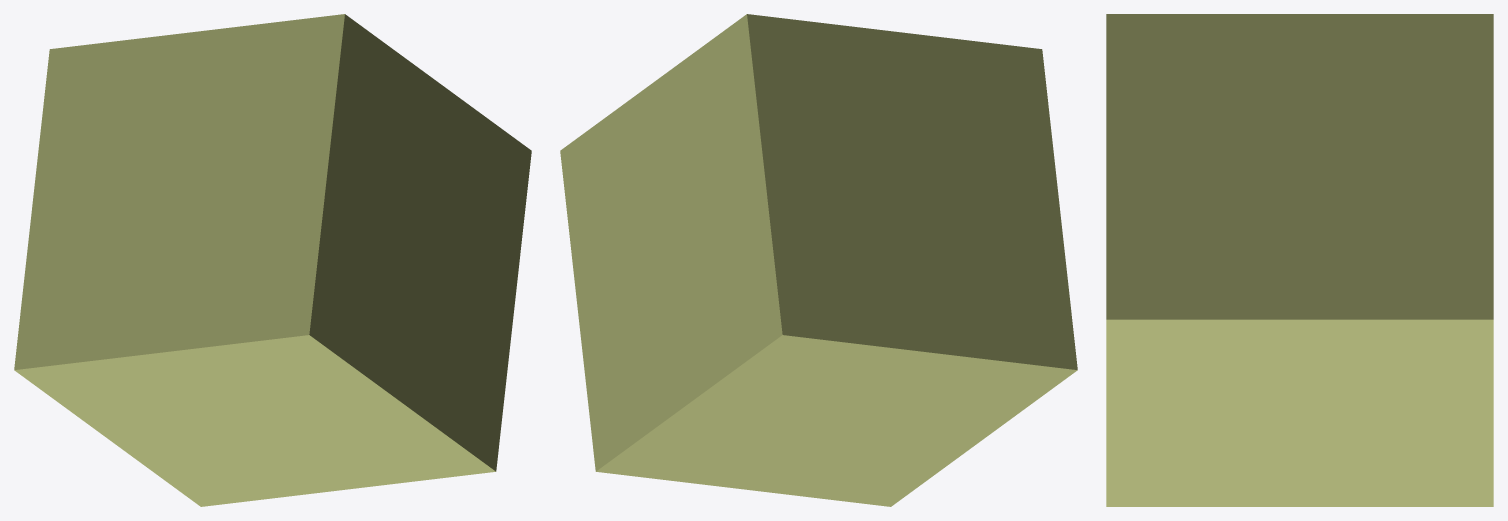
3 views of the same model, side by side, from view 1: azimuth 30°, elevation 25°; view 2: azimuth 150°, elevation 25°; view 3: azimuth 270°, elevation 25° (orthographic). The views are drawn at different scales.
Parts seen in each view (by area): view 1: 0_2_3_3_3_0_2_0_0_1_0; view 2: 0_2_3_3_3_0_2_0_0_1_0; view 3: 0_2_3_3_3_0_2_0_0_1_0.
Boxes of the visible parts, left/top/right/bottom form: 0_2_3_3_3_0_2_0_0_1_0: left=14, top=14, right=531, bottom=506; 0_2_3_3_3_0_2_0_0_1_0: left=560, top=14, right=1077, bottom=506; 0_2_3_3_3_0_2_0_0_1_0: left=1106, top=14, right=1493, bottom=506.
Bounding box in the file's own units: 6.13 × 6.19 × 6.
